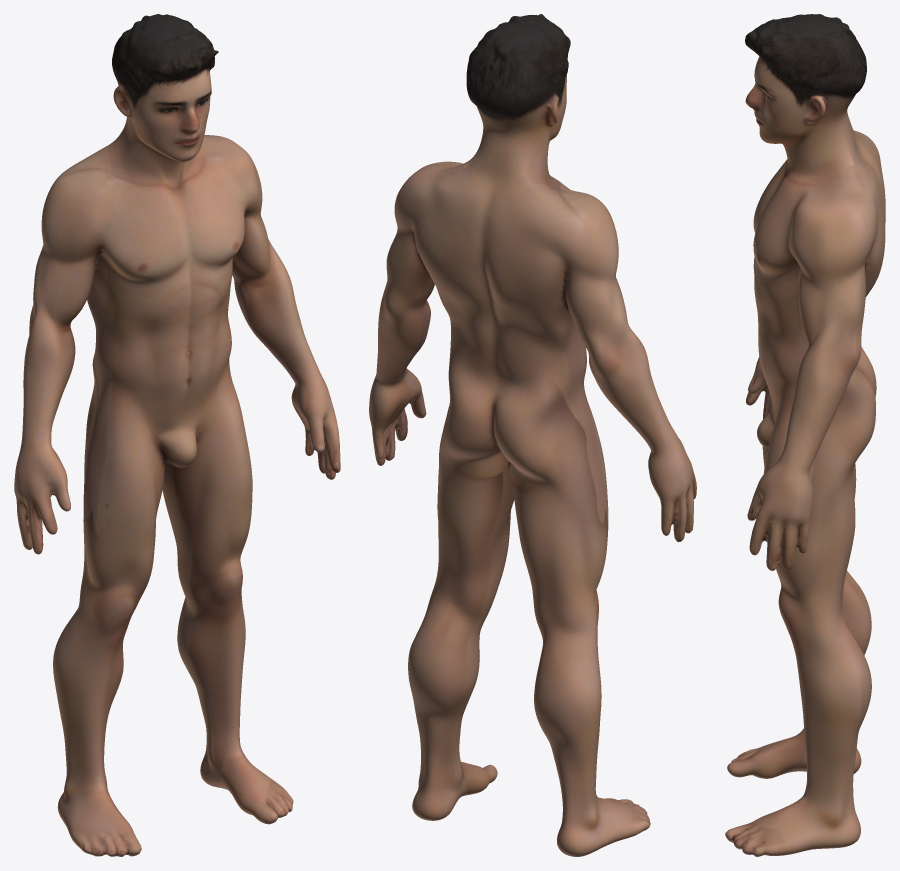
File: humanmaleteen.glb
3 renders of one model, left to right at view 1: azimuth 30°, elevation 25°; view 2: azimuth 150°, elevation 25°; view 3: azimuth 270°, elevation 25°, orthographic.
Size of the model in its own units: 0.8285 by 2 by 0.3687.
Materials: 1 (1 with a texture image).
